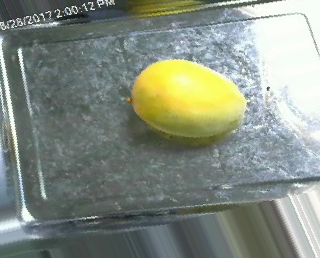Mango: (128, 59, 250, 141)
